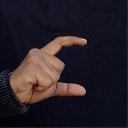C: (10, 28, 93, 108)
